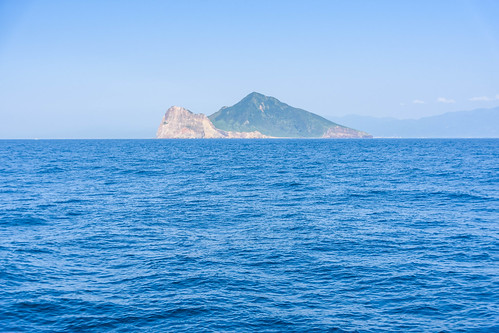turtleIslandLeft: (162, 92, 376, 143)
